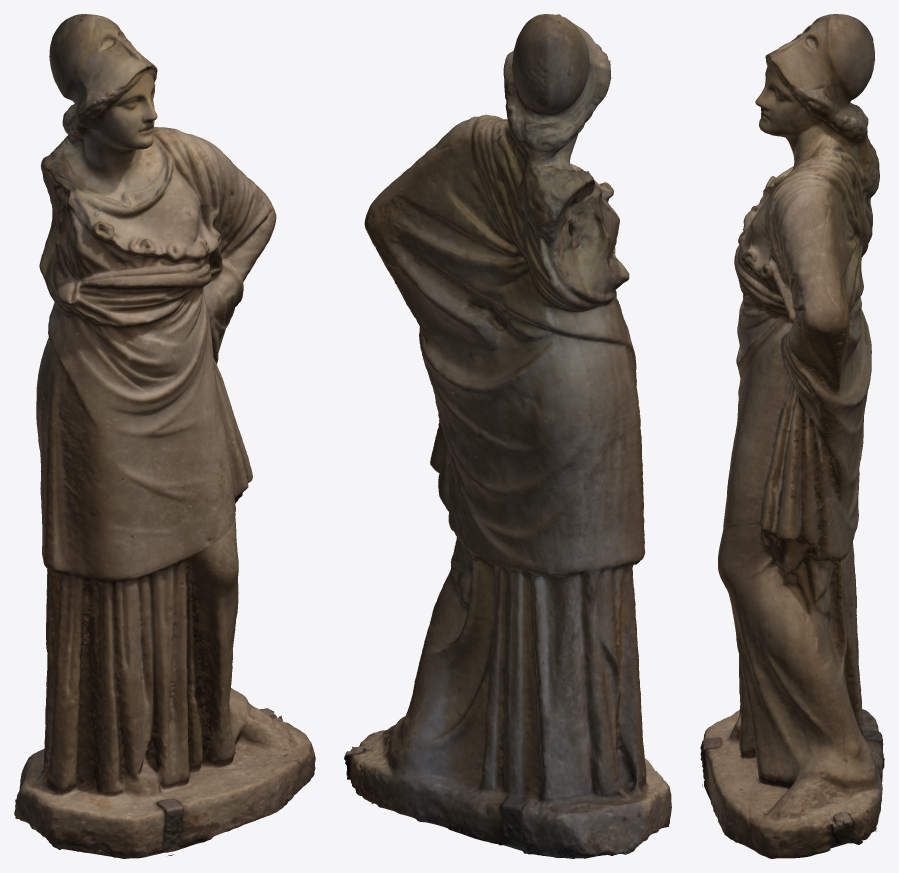
Rendered from athena-balanced.glb.
3 renders of one model, left to right at view 1: azimuth 30°, elevation 25°; view 2: azimuth 150°, elevation 25°; view 3: azimuth 270°, elevation 25°, orthographic. The views are drawn at different scales.
Parts seen in each view (by area): view 1: Object_4, Object_2, Object_5, Object_7, Object_6, Object_3, Object_8; view 2: Object_3, Object_5, Object_4, Object_2, Object_8, Object_7, Object_6; view 3: Object_3, Object_7, Object_2, Object_4, Object_8, Object_5, Object_6.
Part boxes in pixels (x1,y1,x2,y2): Object_4: [36, 157, 276, 567]; Object_2: [15, 14, 313, 858]; Object_5: [44, 298, 272, 756]; Object_7: [14, 178, 315, 857]; Object_6: [14, 627, 284, 821]; Object_3: [36, 89, 276, 485]; Object_8: [36, 311, 252, 640]; Object_3: [379, 66, 642, 496]; Object_5: [352, 292, 640, 824]; Object_4: [364, 137, 642, 471]; Object_2: [344, 14, 671, 858]; Object_8: [413, 315, 645, 643]; Object_7: [346, 468, 670, 858]; Object_6: [387, 537, 655, 845]; Object_3: [741, 78, 877, 509]; Object_7: [700, 223, 884, 858]; Object_2: [700, 14, 882, 858]; Object_4: [722, 165, 879, 574]; Object_8: [718, 328, 870, 632]; Object_5: [736, 310, 882, 829]; Object_6: [708, 521, 860, 837].
Size of the model in its own units: 6.55 by 17.85 by 3.89.
1 material, 1 textured.
